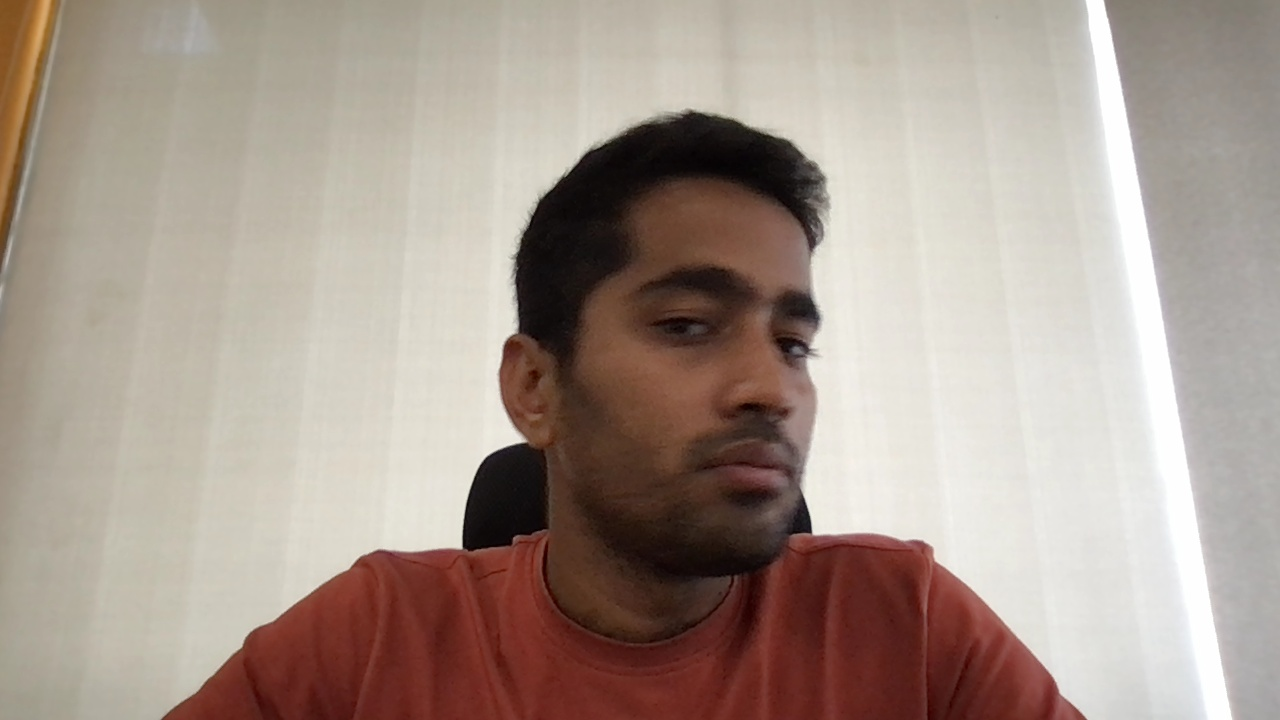no-mask: (551, 366, 805, 577)
